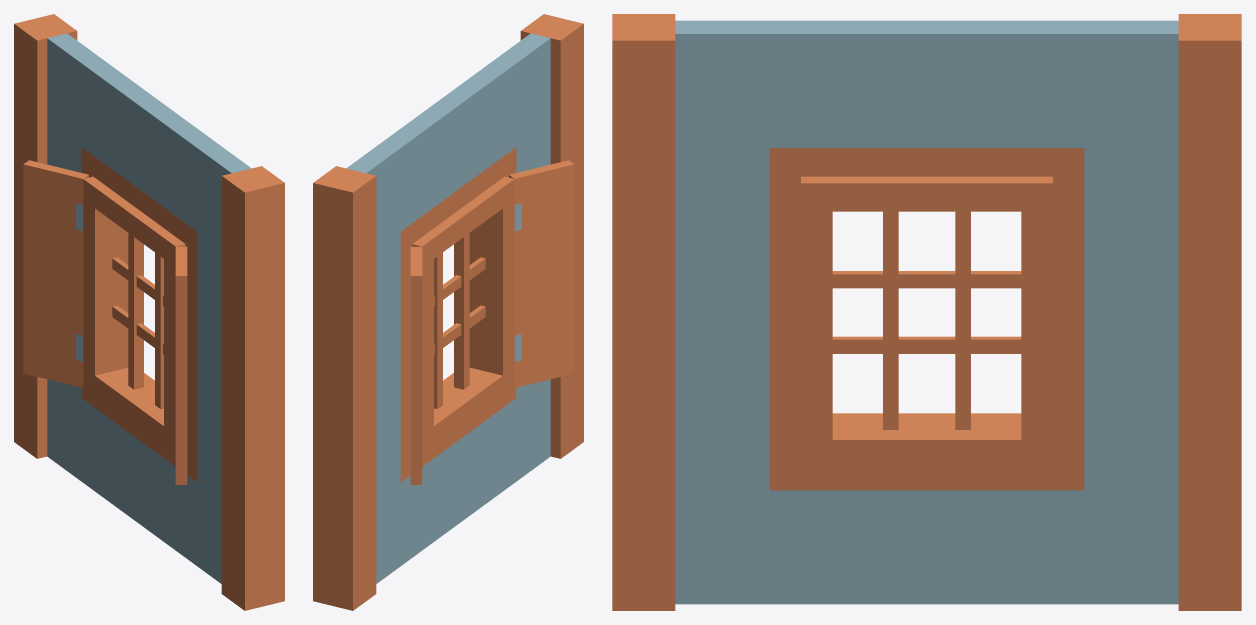
The model's file is wallWindowShutters.fbx.
3 renders of one model, left to right at view 1: azimuth 30°, elevation 25°; view 2: azimuth 150°, elevation 25°; view 3: azimuth 270°, elevation 25°, orthographic. The views are drawn at different scales.
Parts seen in each view (by area): view 1: wallWindowShutters, shutter (×2), detail; view 2: wallWindowShutters, shutter (×2), detail; view 3: wallWindowShutters, detail.
Boxes of the visible parts, <box> form: wallWindowShutters: <box>14,14,284,610</box>; shutter (×2): <box>23,160,187,484</box>; detail: <box>112,233,163,408</box>; wallWindowShutters: <box>313,14,583,610</box>; shutter (×2): <box>410,160,574,484</box>; detail: <box>434,233,485,408</box>; wallWindowShutters: <box>612,14,1241,610</box>; detail: <box>832,211,1021,429</box>.
Bounding box in the file's own units: 1.75 × 10 × 10.
